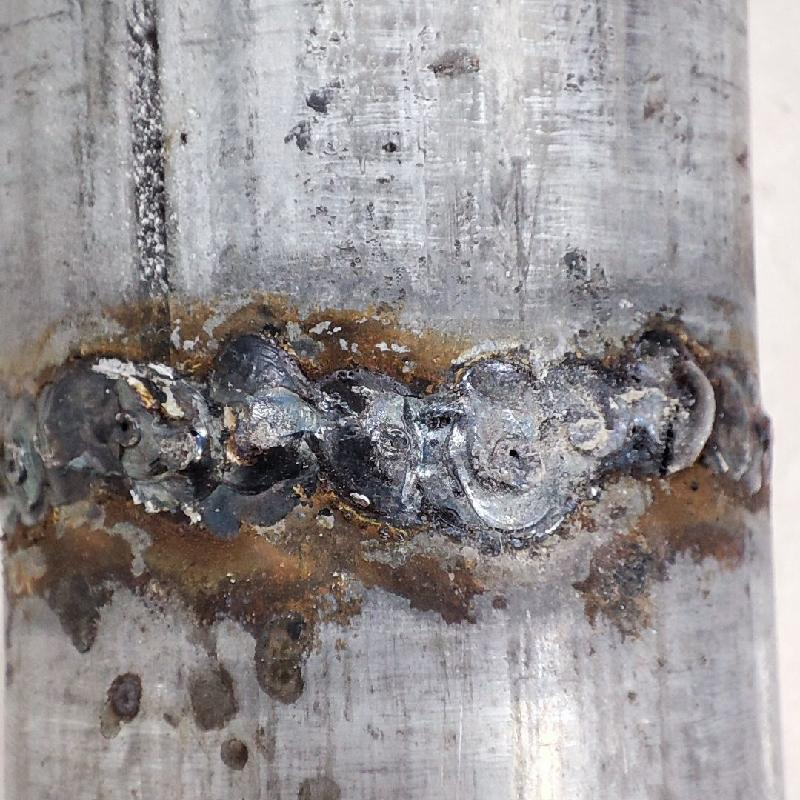Not_fully_soldered: (437, 340, 630, 539)
Surface_pores: (100, 411, 156, 445), (485, 439, 534, 475)
wrong_size: (633, 337, 780, 509)
